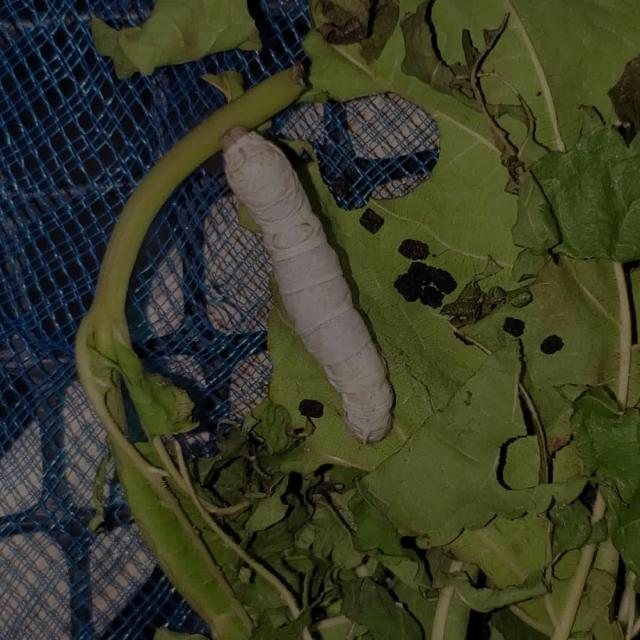Healthy: (206, 114, 406, 452)
